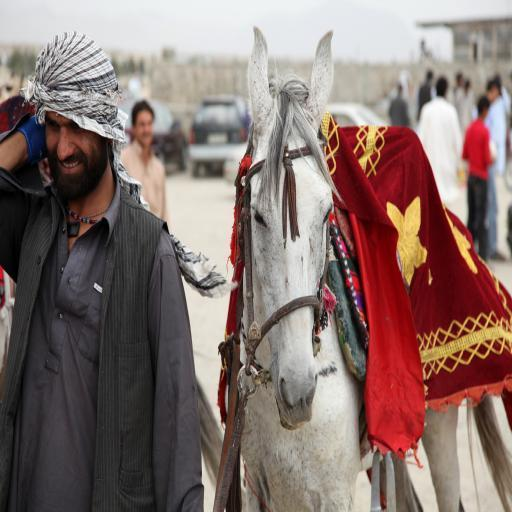horse: (239, 26, 512, 512)
